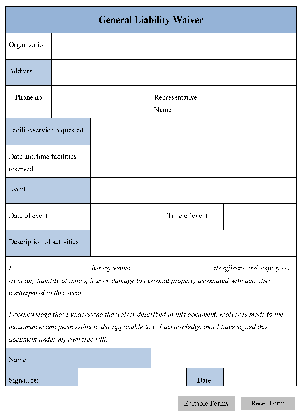textbox: (49, 56, 300, 88), (87, 142, 300, 179), (51, 31, 299, 62), (88, 175, 299, 206), (88, 116, 299, 146), (89, 228, 300, 258), (49, 83, 152, 120), (149, 347, 299, 370), (209, 84, 300, 120), (75, 366, 188, 388), (222, 202, 298, 232), (88, 201, 153, 232), (221, 366, 299, 388)
textline: (130, 261, 213, 274), (11, 260, 91, 273)
